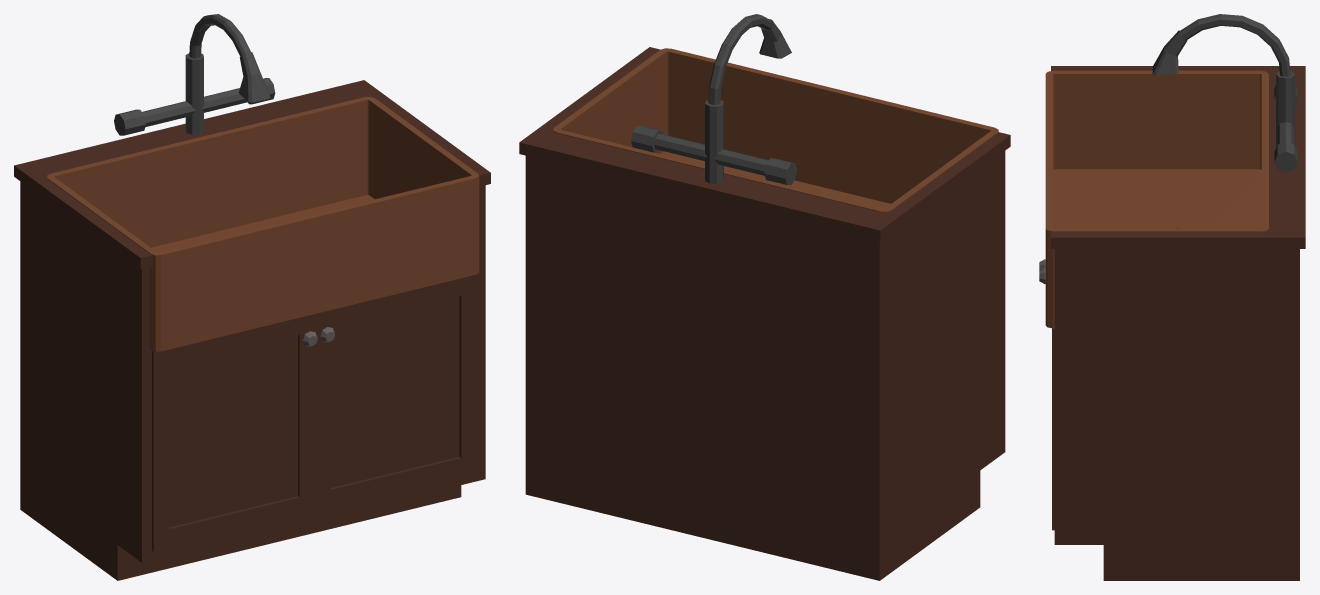
Rendered from WoodSink1KitchenCabinet1.glb.
3 renders of one model, left to right at view 1: azimuth 30°, elevation 25°; view 2: azimuth 150°, elevation 25°; view 3: azimuth 270°, elevation 25°, orthographic. The views are drawn at different scales.
Visible parts, largest first — view 1: WoodSink1KitchenCabinet1, DoorR1WoodSink1KitchenCabinet1, DoorL1WoodSink1KitchenCabinet1, FaucetSpout1WoodSink1KitchenCabinet1, FaucetLeverR1WoodSink1KitchenCabinet1; view 2: WoodSink1KitchenCabinet1, FaucetSpout1WoodSink1KitchenCabinet1, FaucetLeverR1WoodSink1KitchenCabinet1; view 3: WoodSink1KitchenCabinet1, FaucetSpout1WoodSink1KitchenCabinet1, DoorL1WoodSink1KitchenCabinet1, FaucetLeverL1WoodSink1KitchenCabinet1.
Boxes of the visible parts, x1=… form: WoodSink1KitchenCabinet1: x1=14, y1=53, x2=490, y2=580; DoorR1WoodSink1KitchenCabinet1: x1=152, y1=314, x2=317, y2=551; DoorL1WoodSink1KitchenCabinet1: x1=315, y1=274, x2=476, y2=512; FaucetSpout1WoodSink1KitchenCabinet1: x1=189, y1=14, x2=270, y2=102; FaucetLeverR1WoodSink1KitchenCabinet1: x1=114, y1=109, x2=145, y2=135; WoodSink1KitchenCabinet1: x1=519, y1=47, x2=1010, y2=580; FaucetSpout1WoodSink1KitchenCabinet1: x1=708, y1=14, x2=791, y2=104; FaucetLeverR1WoodSink1KitchenCabinet1: x1=764, y1=158, x2=797, y2=185; WoodSink1KitchenCabinet1: x1=1045, y1=66, x2=1305, y2=580; FaucetSpout1WoodSink1KitchenCabinet1: x1=1152, y1=14, x2=1290, y2=76; DoorL1WoodSink1KitchenCabinet1: x1=1039, y1=268, x2=1054, y2=530; FaucetLeverL1WoodSink1KitchenCabinet1: x1=1274, y1=141, x2=1297, y2=172.
Size of the model in its own units: 0.9707 by 1.26 by 0.6359.
